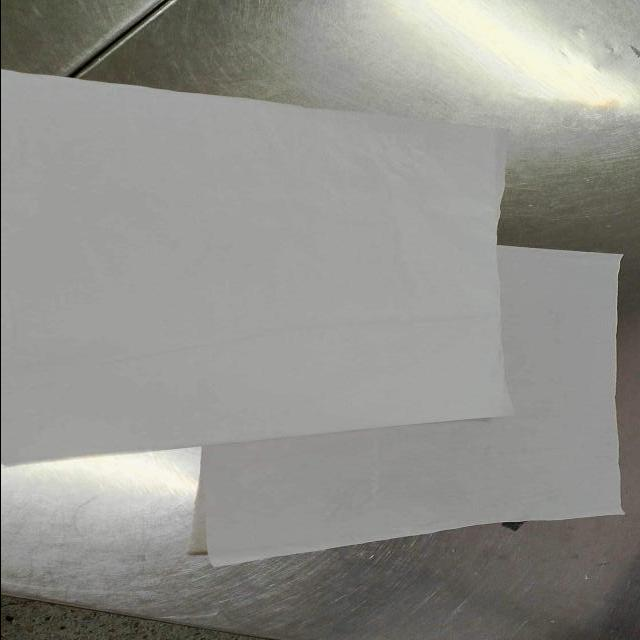Infectious: (2, 67, 516, 469), (192, 243, 627, 568)
Sharps: (67, 0, 179, 80)
